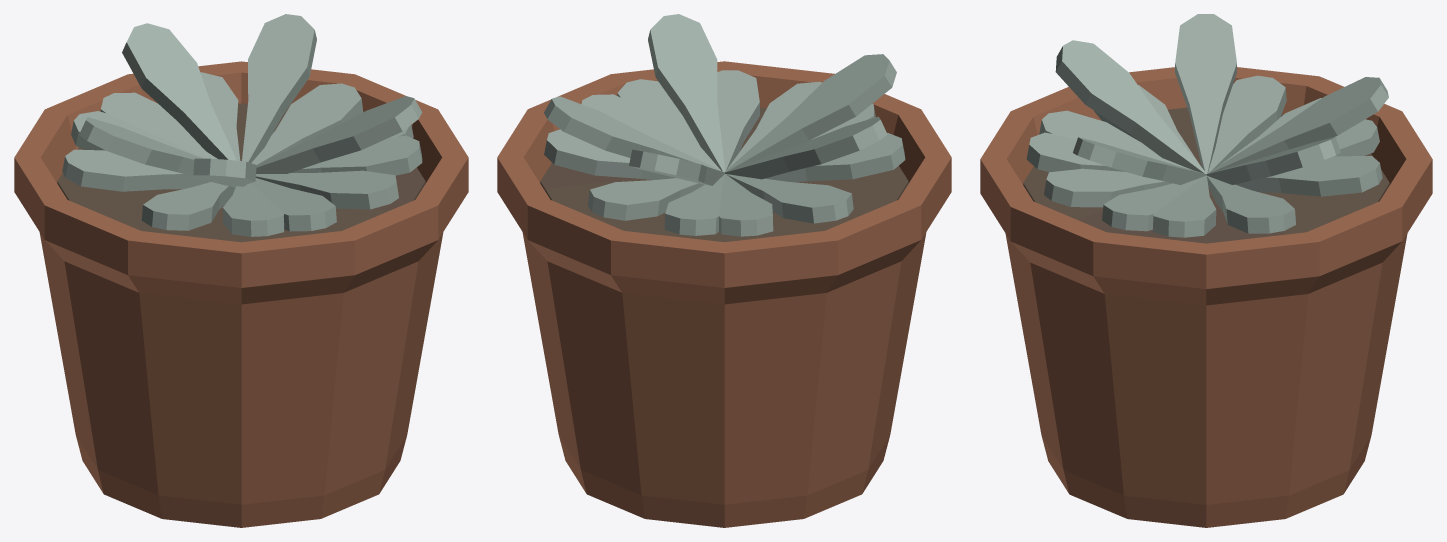
Rendered from new-elegans.glb.
3 renders of one model, left to right at view 1: azimuth 30°, elevation 25°; view 2: azimuth 150°, elevation 25°; view 3: azimuth 270°, elevation 25°, orthographic.
Parts seen in each view (by area): view 1: new-elegans/review-terra-vessel, new-elegans/leaf-015, new-elegans/leaf-012, new-elegans/review-rooted-soil, new-elegans/leaf-014, new-elegans/leaf-004, new-elegans/leaf-005, new-elegans/leaf-006, new-elegans/leaf-008, new-elegans/leaf-013, new-elegans/leaf-001, new-elegans/leaf-002 (+5 smaller); view 2: new-elegans/review-terra-vessel, new-elegans/review-rooted-soil, new-elegans/leaf-014, new-elegans/leaf-016, new-elegans/leaf-012, new-elegans/leaf-013, new-elegans/leaf-005, new-elegans/leaf-007, new-elegans/leaf-006, new-elegans/leaf-008, new-elegans/leaf-004, new-elegans/leaf-001 (+5 smaller); view 3: new-elegans/review-terra-vessel, new-elegans/leaf-016, new-elegans/review-rooted-soil, new-elegans/leaf-013, new-elegans/leaf-015, new-elegans/leaf-005, new-elegans/leaf-007, new-elegans/leaf-006, new-elegans/leaf-004, new-elegans/leaf-009, new-elegans/leaf-012, new-elegans/leaf-014 (+6 smaller).
Boxes of the visible parts, x1,y1,x2,y2 form: new-elegans/review-terra-vessel: [14, 61, 468, 527]; new-elegans/leaf-015: [122, 23, 236, 160]; new-elegans/leaf-012: [242, 14, 316, 162]; new-elegans/review-rooted-soil: [57, 103, 425, 242]; new-elegans/leaf-014: [256, 96, 422, 173]; new-elegans/leaf-004: [251, 83, 363, 164]; new-elegans/leaf-005: [62, 149, 210, 191]; new-elegans/leaf-006: [255, 170, 398, 209]; new-elegans/leaf-008: [141, 182, 235, 230]; new-elegans/leaf-013: [79, 117, 203, 176]; new-elegans/leaf-001: [291, 135, 422, 175]; new-elegans/leaf-002: [100, 92, 217, 158]; new-elegans/review-terra-vessel: [497, 61, 951, 527]; new-elegans/review-rooted-soil: [540, 107, 908, 242]; new-elegans/leaf-014: [648, 14, 724, 172]; new-elegans/leaf-016: [725, 54, 896, 171]; new-elegans/leaf-012: [544, 96, 722, 171]; new-elegans/leaf-013: [725, 116, 887, 179]; new-elegans/leaf-005: [726, 174, 853, 223]; new-elegans/leaf-007: [588, 178, 704, 220]; new-elegans/leaf-006: [717, 70, 759, 170]; new-elegans/leaf-008: [765, 133, 905, 182]; new-elegans/leaf-004: [544, 129, 675, 180]; new-elegans/leaf-001: [617, 79, 720, 170]; new-elegans/review-terra-vessel: [980, 67, 1432, 527]; new-elegans/leaf-016: [1055, 40, 1205, 173]; new-elegans/review-rooted-soil: [1023, 107, 1389, 243]; new-elegans/leaf-013: [1175, 14, 1236, 173]; new-elegans/leaf-015: [1207, 77, 1388, 173]; new-elegans/leaf-005: [1208, 75, 1286, 172]; new-elegans/leaf-007: [1235, 156, 1382, 196]; new-elegans/leaf-006: [1044, 168, 1172, 207]; new-elegans/leaf-004: [1207, 176, 1295, 233]; new-elegans/leaf-009: [1153, 175, 1216, 237]; new-elegans/leaf-012: [1206, 137, 1340, 184]; new-elegans/leaf-014: [1073, 137, 1206, 184].
Bounding box in the file's own units: 0.19 × 0.1731 × 0.19.
Materials: 3 (3 with a texture image).
